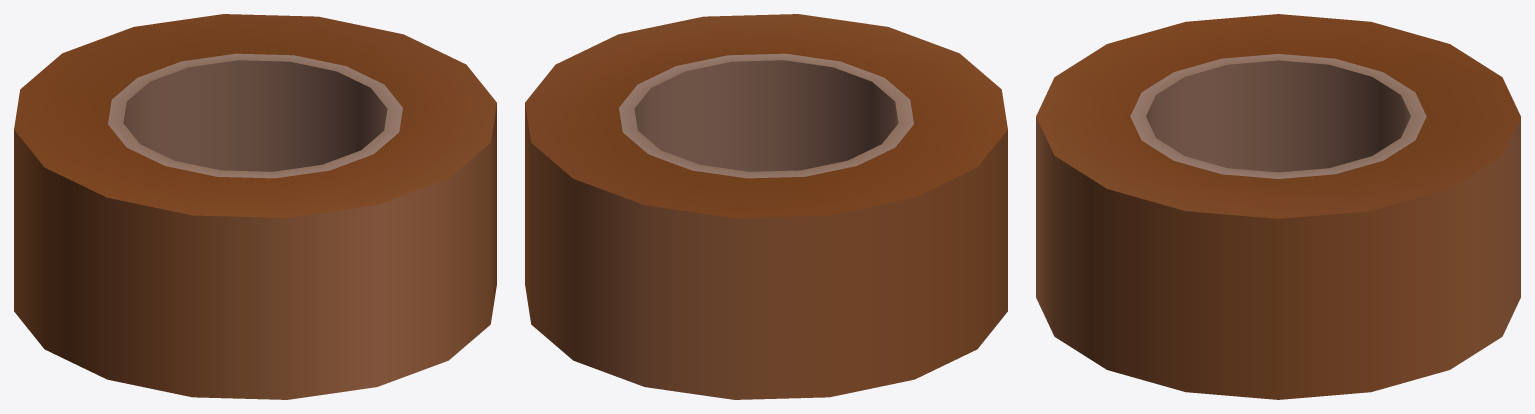
File: tape.fbx
The picture shows the model from 3 angles, left to right: view 1: azimuth 30°, elevation 25°; view 2: azimuth 150°, elevation 25°; view 3: azimuth 270°, elevation 25°; orthographic projection.
Visible parts, largest first — view 1: tape; view 2: tape; view 3: tape.
Part boxes in pixels (box(x1,y1,x2,y2)): tape: box(14, 14, 496, 399); tape: box(525, 14, 1007, 399); tape: box(1036, 14, 1520, 399).
Bounding box in the file's own units: 9.8 × 4.04 × 9.8.
